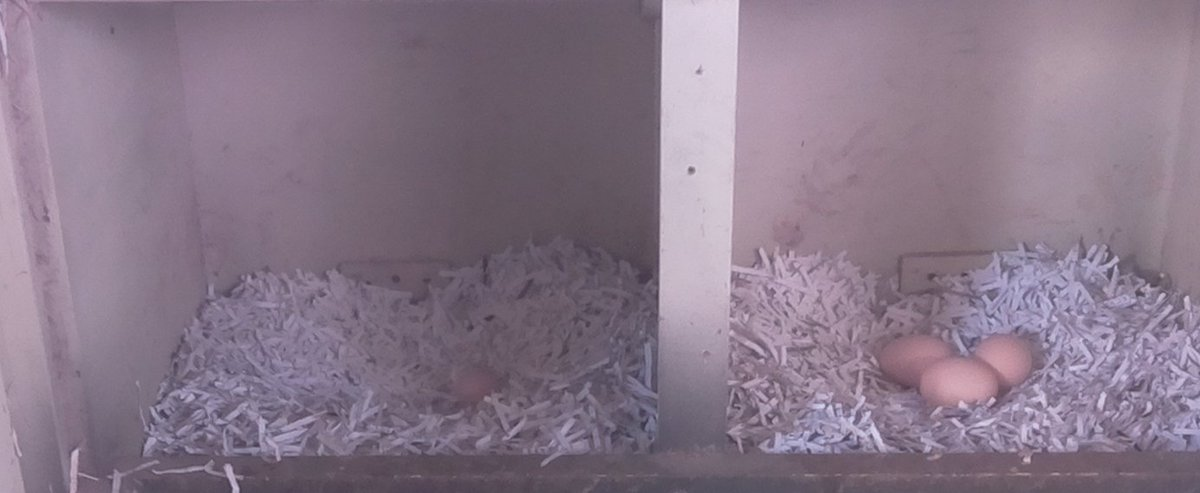egg: (916, 354, 998, 413), (874, 331, 955, 389), (970, 326, 1036, 391), (447, 359, 504, 411)
